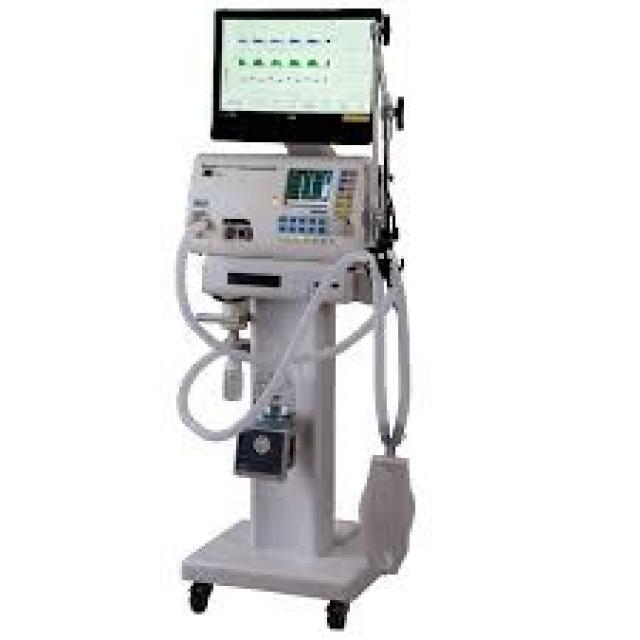ventilator: (187, 24, 435, 628)
